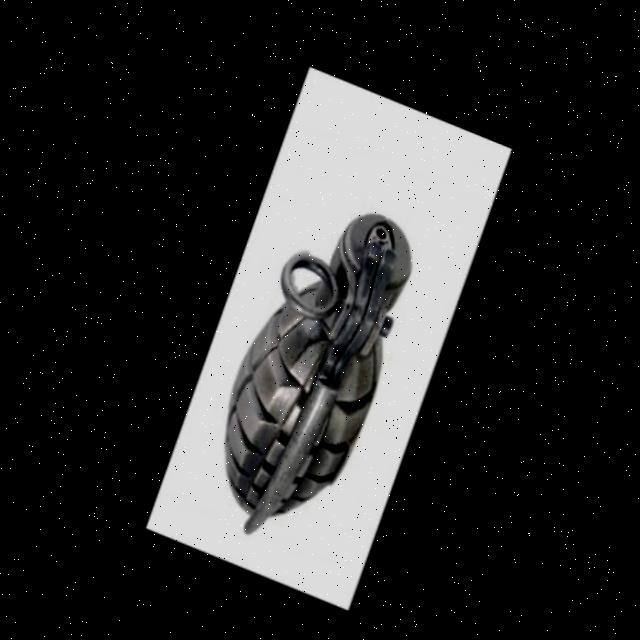grenade: (180, 149, 449, 562)
